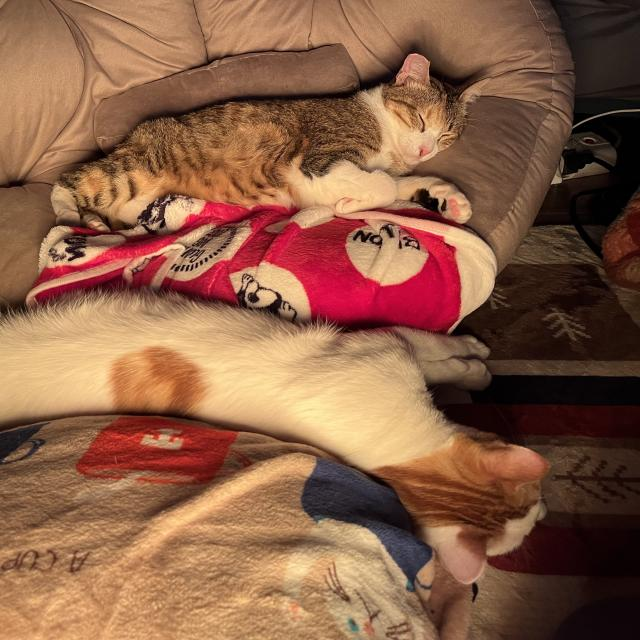cat1: (0, 291, 544, 593)
cat2: (52, 53, 503, 235)
